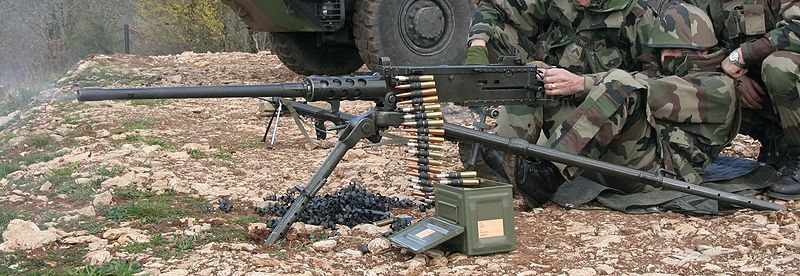rifle: (73, 66, 537, 136)
rifle in hand: (66, 65, 610, 159)
